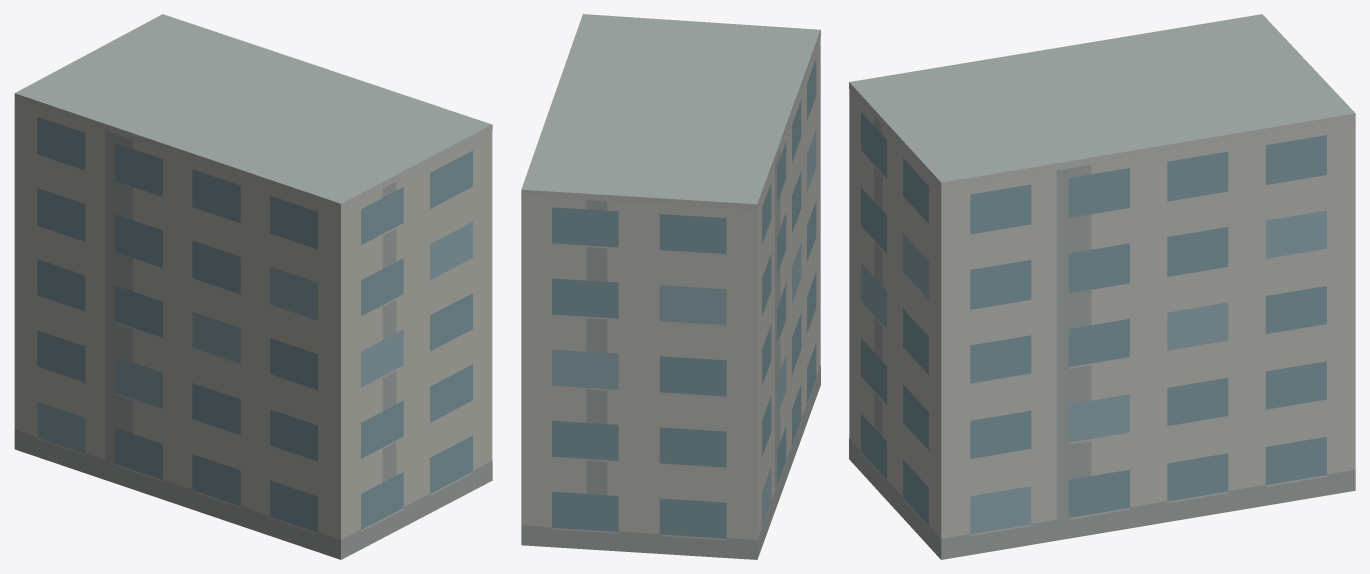
Rendered from survey-upis-32890640.glb.
3 renders of one model, left to right at view 1: azimuth 30°, elevation 25°; view 2: azimuth 150°, elevation 25°; view 3: azimuth 270°, elevation 25°, orthographic. The views are drawn at different scales.
Visible parts, largest first — view 1: survey-upis-32890640.tmp; view 2: survey-upis-32890640.tmp; view 3: survey-upis-32890640.tmp.
Part boxes in pixels (x1,y1,x2,y2): survey-upis-32890640.tmp: (14,14,492,559); survey-upis-32890640.tmp: (521,14,820,559); survey-upis-32890640.tmp: (849,14,1355,559).
Size of the model in its own units: 12.76 by 13.3 by 16.19.
